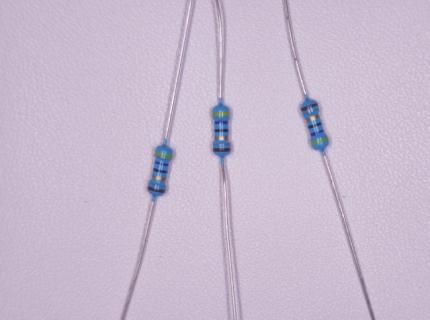Gold band: (305, 114, 320, 123), (152, 174, 166, 182), (215, 136, 229, 140)
Violet band: (310, 129, 325, 137), (155, 160, 169, 167), (214, 121, 229, 125)
Yellow band: (154, 150, 172, 160), (311, 136, 329, 145), (212, 111, 230, 116)
